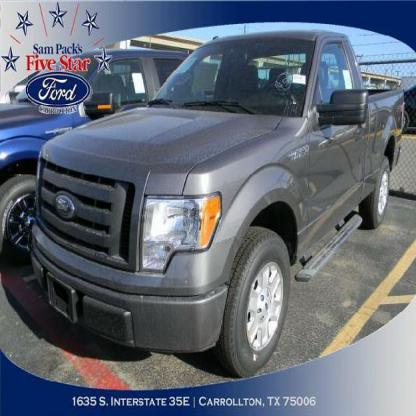Vehicle: (33, 33, 408, 380)
